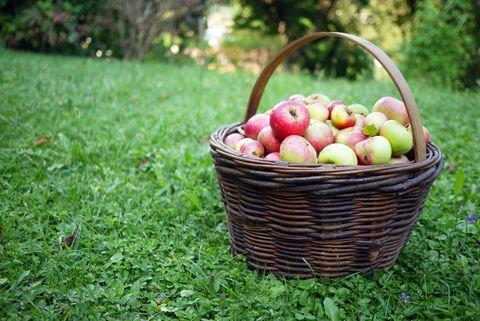apple: (269, 100, 309, 137), (378, 120, 411, 155), (372, 96, 410, 125), (279, 135, 315, 163), (354, 136, 390, 164), (317, 144, 357, 165)
